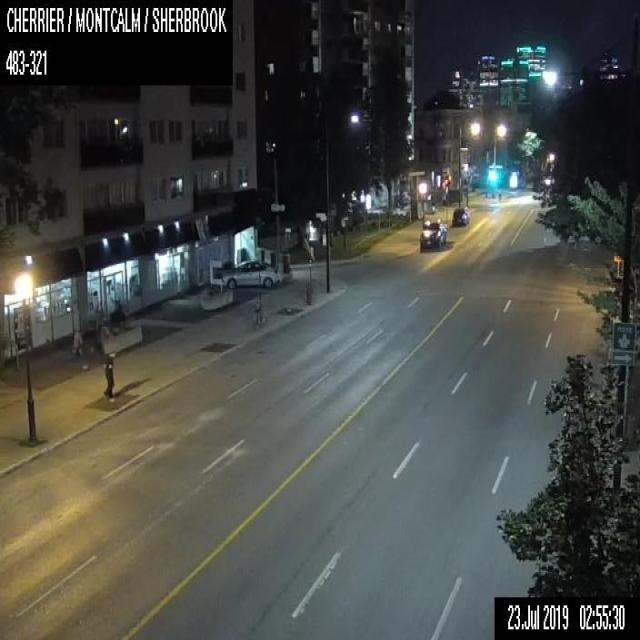pedestrian: (103, 349, 115, 403)
vehicle: (222, 260, 277, 286), (418, 219, 446, 248), (450, 207, 469, 225)
